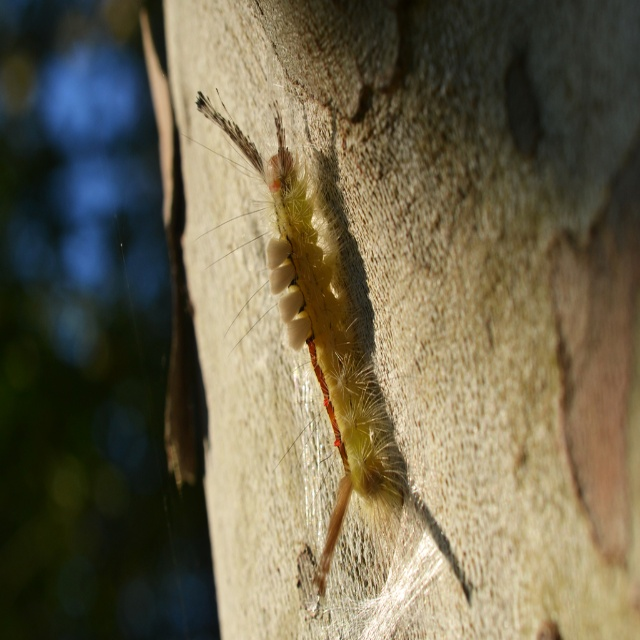Caterpillar: (177, 85, 400, 591)
